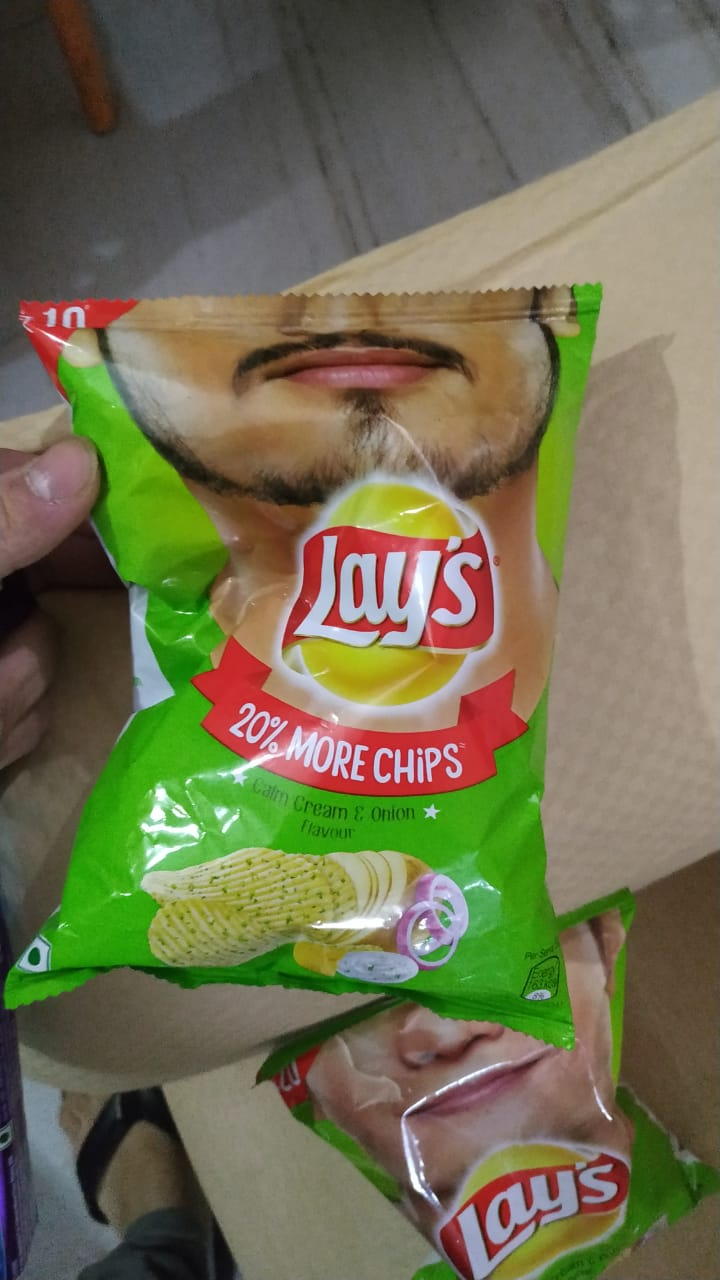lays chips: (1, 232, 582, 1051), (282, 931, 716, 1280)
